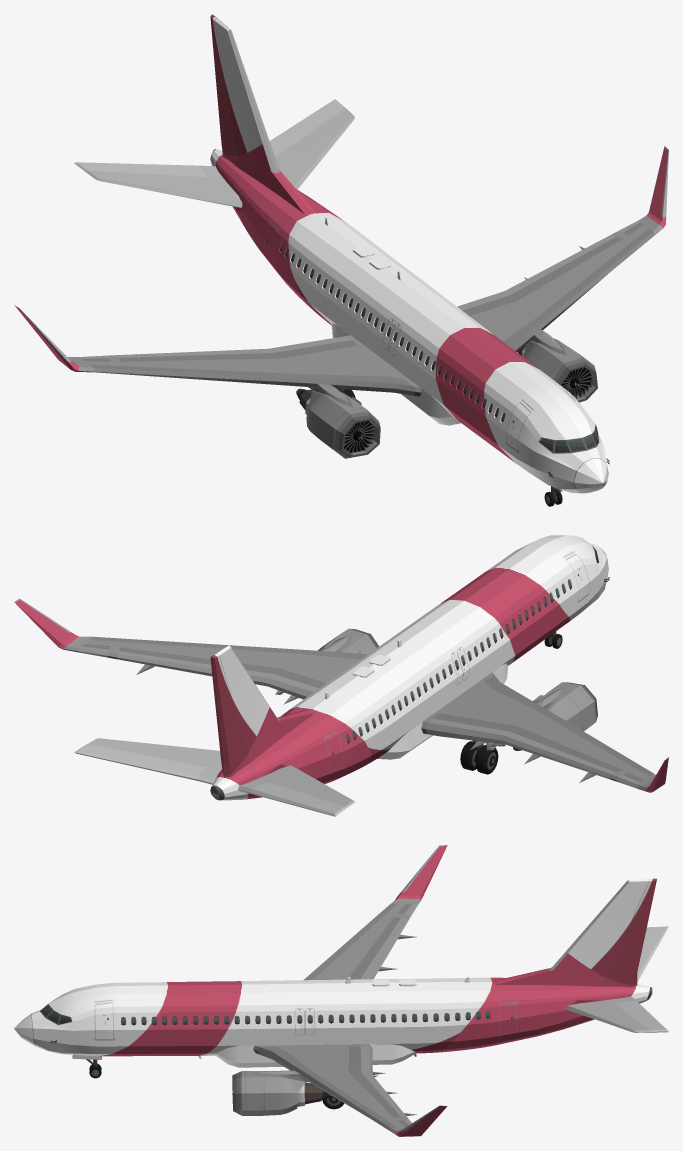
File: Passenger Aircraft V2.fbx
3 renders of one model, top to bottom at view 1: azimuth 30°, elevation 25°; view 2: azimuth 150°, elevation 25°; view 3: azimuth 270°, elevation 25°, orthographic. The views are drawn at different scales.
Visible parts, largest first — view 1: Body; view 2: Body, Back Wheel R; view 3: Body.
Boxes of the visible parts, x1,y1,x2,y2 form: Body: (14, 14, 668, 493); Body: (14, 535, 668, 816); Back Wheel R: (460, 741, 498, 774); Body: (14, 845, 668, 1136).
Size of the model in its own units: 31.96 by 11.3 by 33.9.
1 material, 1 textured.
